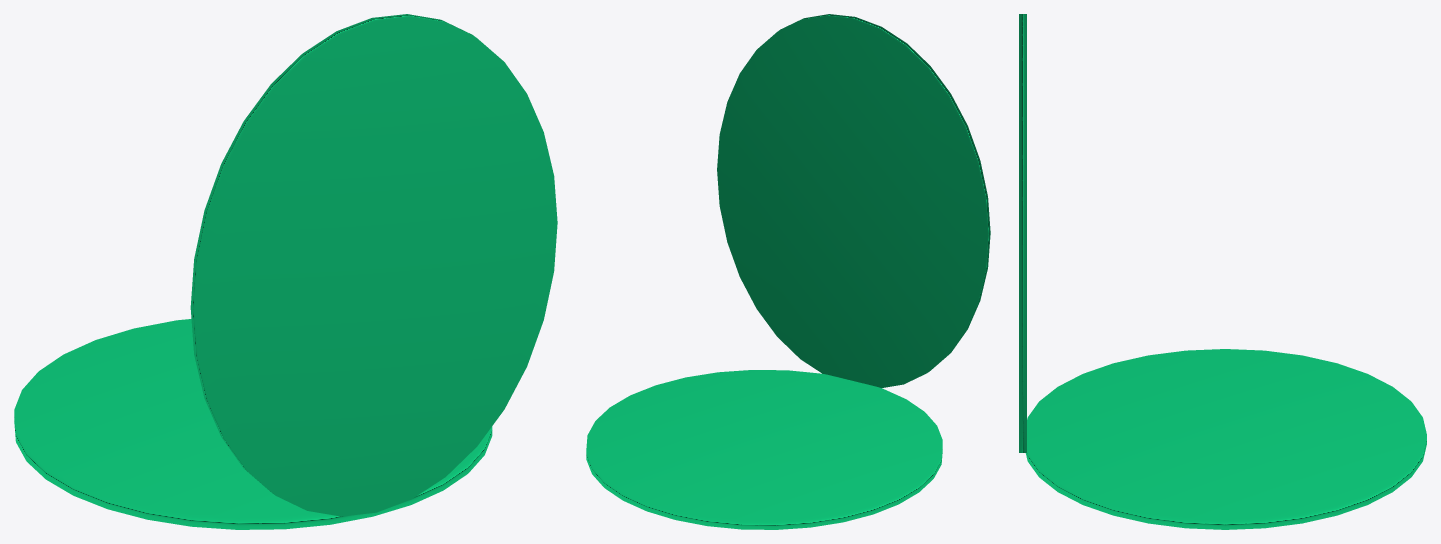
File: teletransportador.obj
The picture shows the model from 3 angles, left to right: view 1: azimuth 30°, elevation 25°; view 2: azimuth 150°, elevation 25°; view 3: azimuth 270°, elevation 25°; orthographic projection. The views are drawn at different scales.
Parts seen in each view (by area): view 1: Cube.001, Cube; view 2: Cube.001, Cube; view 3: Cube, Cube.001.
Boxes of the visible parts, x1,y1,x2,y2 form: Cube.001: (190,14,557,516); Cube: (14,319,492,529); Cube.001: (717,14,990,387); Cube: (586,370,942,529); Cube: (1025,349,1426,529); Cube.001: (1019,14,1026,452).
Size of the model in its own units: 5.73 by 6.56 by 5.8.
